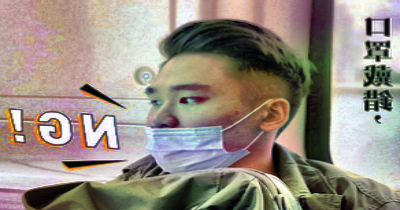mask_weared_incorrect: (143, 81, 250, 173)
